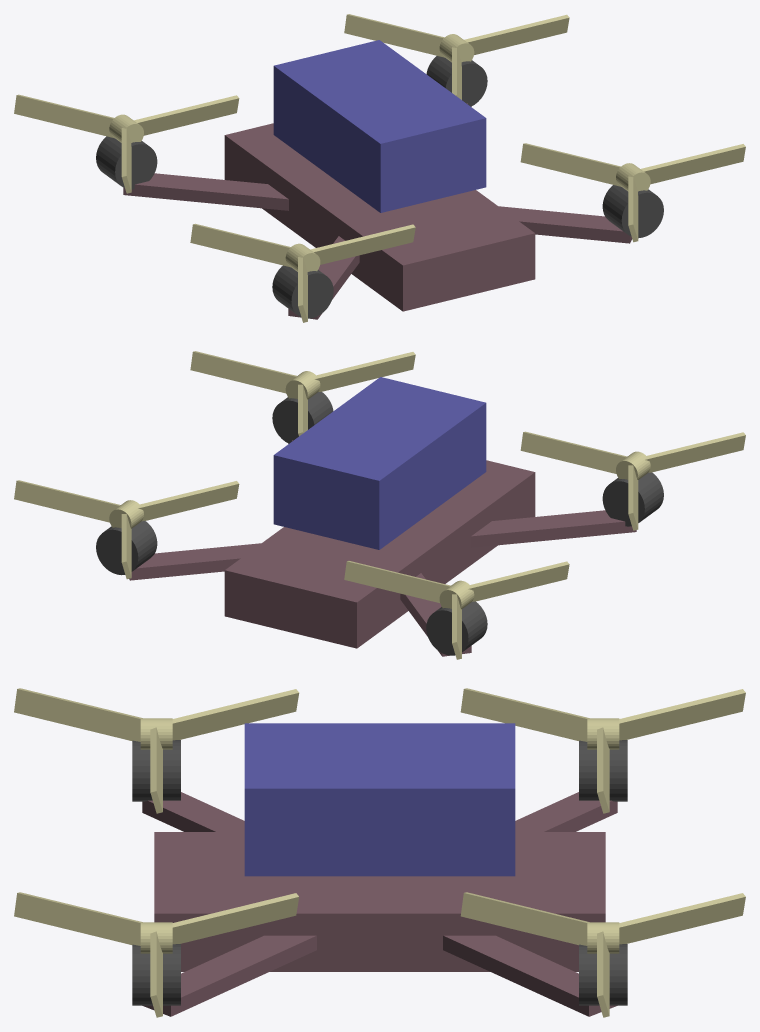
Rendered from Tiny Trainer.glb.
3 views of the same model, one above another, from view 1: azimuth 30°, elevation 25°; view 2: azimuth 150°, elevation 25°; view 3: azimuth 270°, elevation 25° (orthographic). The views are drawn at different scales.
Parts seen in each view (by area): view 1: battery, frame_body, prop_0, prop_3, prop_2, prop_1, arm_3, arm_0, motor_0, motor_2, motor_3, motor_1 (+1 smaller); view 2: battery, frame_body, prop_2, prop_1, prop_3, prop_0, arm_2, arm_1, motor_1, motor_3, motor_2, motor_0 (+1 smaller); view 3: battery, frame_body, prop_1, prop_0, prop_2, prop_3, arm_1, arm_0, arm_3, arm_2, motor_1, motor_0 (+2 smaller).
Boxes of the visible parts, x1,y1,x2,y2 form: battery: (273, 40, 486, 212); frame_body: (224, 123, 535, 311); prop_0: (520, 143, 745, 242); prop_3: (14, 94, 239, 193); prop_2: (190, 223, 415, 322); prop_1: (344, 14, 569, 99); arm_3: (123, 173, 288, 210); arm_0: (499, 206, 632, 243); motor_0: (602, 185, 663, 238); motor_2: (272, 265, 333, 318); motor_3: (96, 136, 157, 189); motor_1: (426, 56, 487, 106); battery: (273, 377, 486, 549); frame_body: (224, 460, 535, 648); prop_2: (520, 431, 745, 530); prop_1: (14, 480, 239, 579); prop_3: (344, 561, 569, 659); prop_0: (190, 351, 415, 436); arm_2: (471, 510, 636, 547); arm_1: (129, 543, 260, 580); motor_1: (96, 521, 157, 575); motor_3: (426, 601, 487, 655); motor_2: (602, 472, 663, 526); motor_0: (272, 392, 333, 443); battery: (244, 723, 515, 876); frame_body: (154, 832, 605, 971); prop_1: (460, 892, 745, 1017); prop_0: (14, 892, 299, 1017); prop_2: (14, 688, 299, 813); prop_3: (460, 688, 745, 813); arm_1: (443, 935, 617, 1016); arm_0: (142, 935, 316, 1016); arm_3: (515, 792, 617, 831); arm_2: (142, 792, 244, 831); motor_1: (579, 944, 627, 1005); motor_0: (132, 944, 180, 1005).
Size of the model in its own units: 0.2265 by 0.06 by 0.2271.
